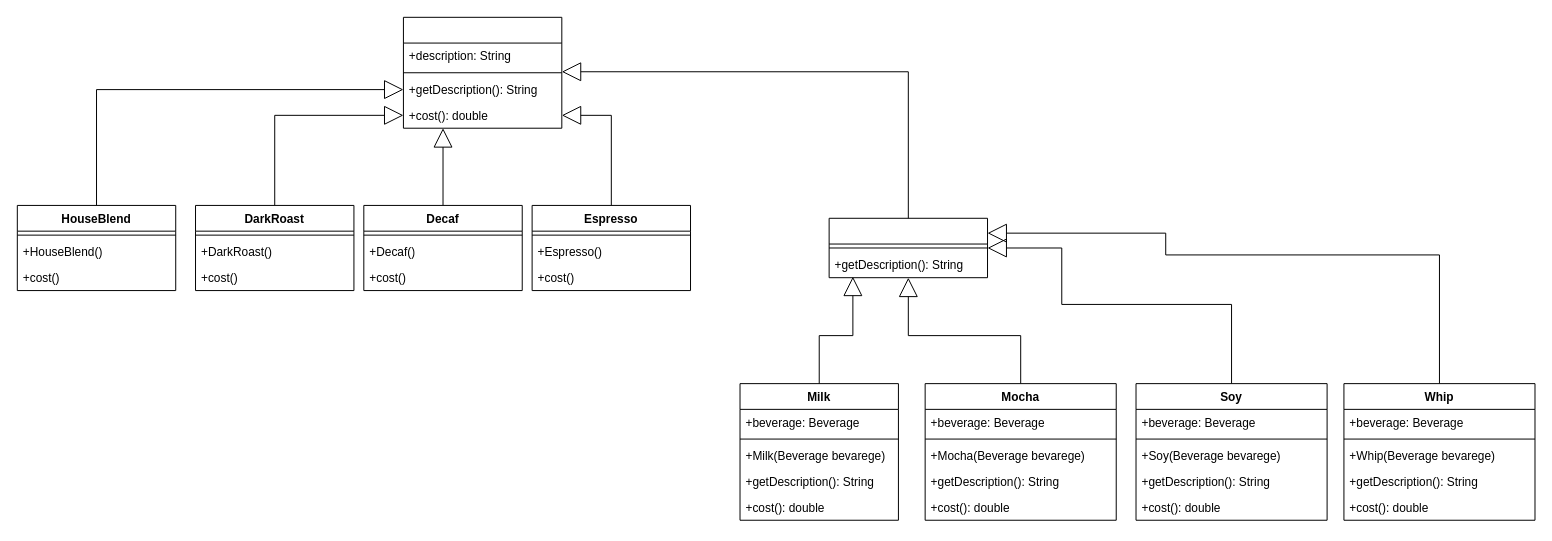
This 1552x541 diagram has some shape labels left out. Here are the shapes that lost their labels. From the top down, the box of each, then its label:
(402, 16, 562, 128): Beverage
(828, 217, 988, 278): CondimentDecorator
